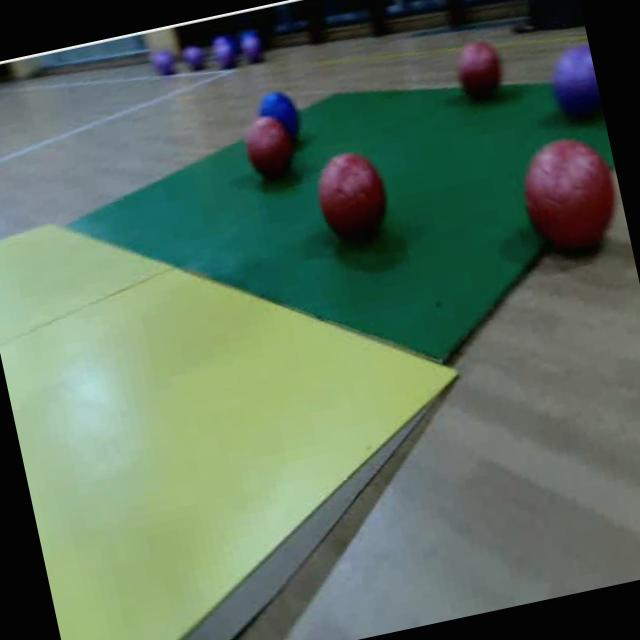blue_ball: (253, 87, 306, 148)
purple_ball: (547, 41, 604, 126)
red_ball: (514, 128, 624, 262), (308, 145, 395, 246), (240, 111, 296, 179), (452, 35, 506, 102)
